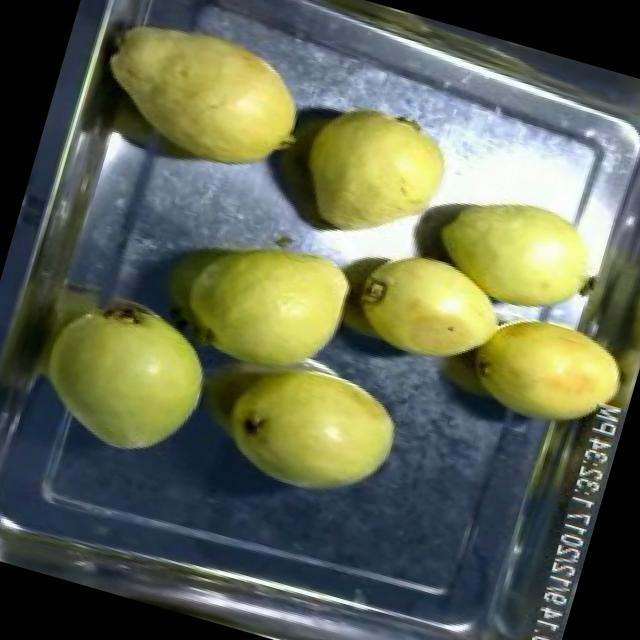Fruit: (76, 0, 327, 195), (17, 272, 232, 476), (157, 206, 375, 399), (410, 160, 625, 342), (203, 337, 417, 518), (276, 76, 476, 267), (448, 285, 640, 451), (332, 224, 523, 386)
